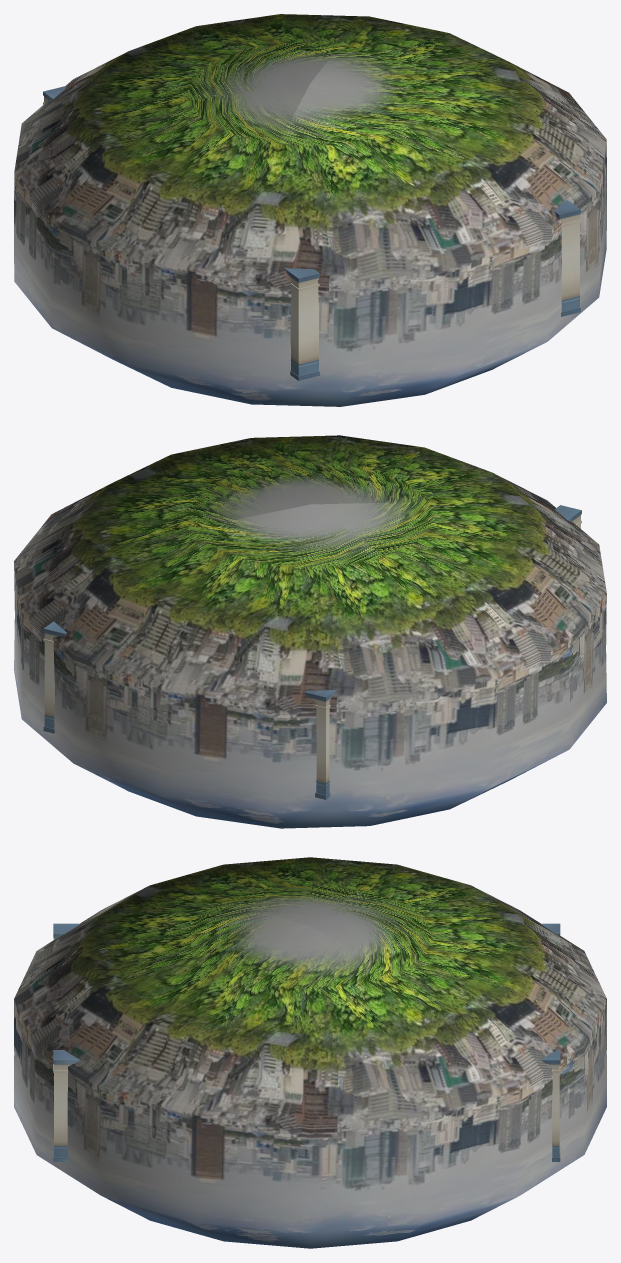
The model's file is Classroom.glb.
3 renders of one model, top to bottom at view 1: azimuth 30°, elevation 25°; view 2: azimuth 150°, elevation 25°; view 3: azimuth 270°, elevation 25°, orthographic.
Visible parts, largest first — view 1: Classroom; view 2: Classroom; view 3: Classroom.
Boxes of the visible parts, x1=… form: Classroom: x1=14, y1=14, x2=606, y2=406; Classroom: x1=14, y1=435, x2=606, y2=828; Classroom: x1=14, y1=857, x2=606, y2=1248.
Bounding box in the file's own units: 143 × 67.51 × 143.
Materials: 25 (24 with a texture image).
